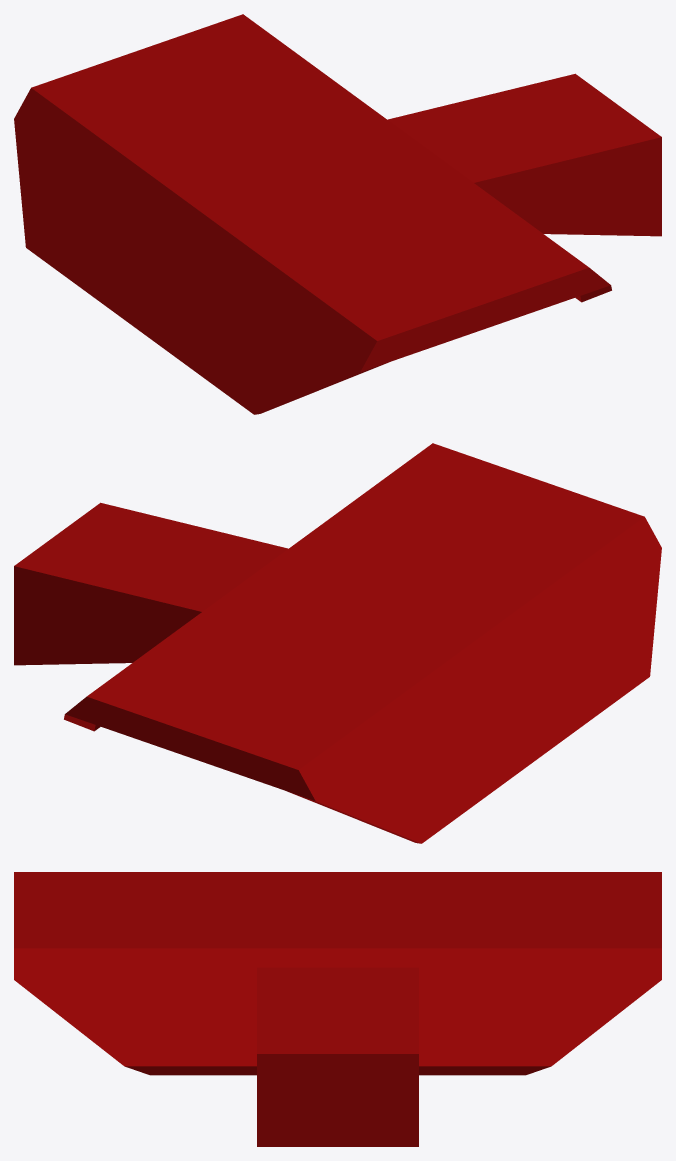
File: original-11.obj
3 renders of one model, top to bottom at view 1: azimuth 30°, elevation 25°; view 2: azimuth 150°, elevation 25°; view 3: azimuth 270°, elevation 25°, orthographic. The views are drawn at different scales.
Visible parts, largest first — view 1: mesh11/mesh11-geometry#mesh11-geometry; view 2: mesh11/mesh11-geometry#mesh11-geometry; view 3: mesh11/mesh11-geometry#mesh11-geometry.
Boxes of the visible parts, <box> form: mesh11/mesh11-geometry#mesh11-geometry: <box>14,14,661,414</box>; mesh11/mesh11-geometry#mesh11-geometry: <box>14,443,661,843</box>; mesh11/mesh11-geometry#mesh11-geometry: <box>14,872,661,1146</box>.
Size of the model in its own units: 0.1255 by 0.0343 by 0.1572.
